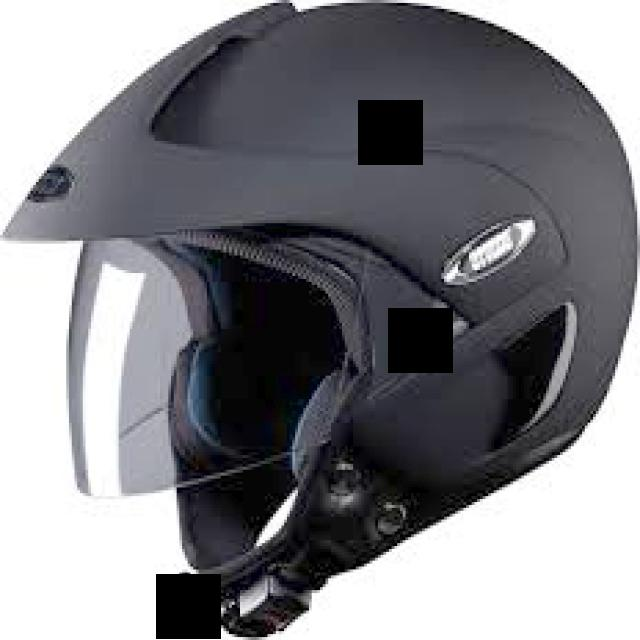Helmet: (6, 4, 636, 636)
